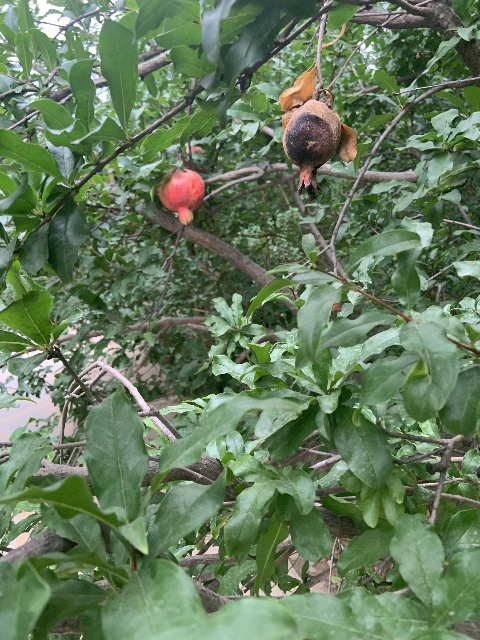ripe: (157, 170, 205, 224)
